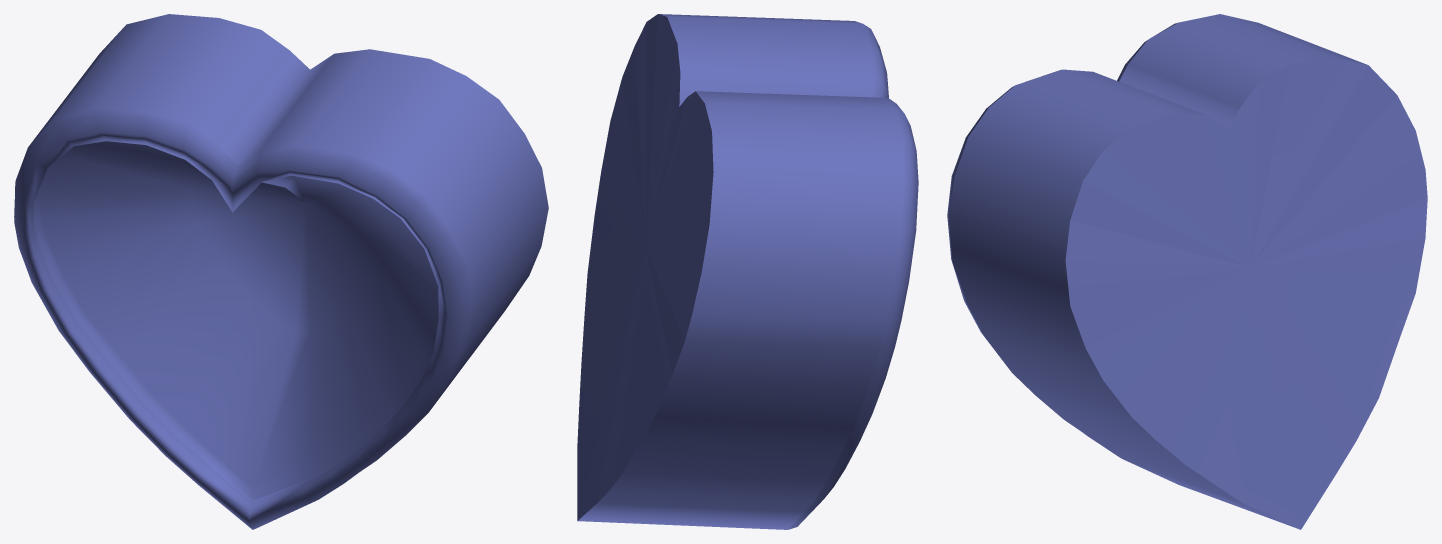
The model's file is TL3_8shapes_heart_Classic_Metal.001 3.glb.
3 views of the same model, side by side, from view 1: azimuth 30°, elevation 25°; view 2: azimuth 150°, elevation 25°; view 3: azimuth 270°, elevation 25° (orthographic). The views are drawn at different scales.
Parts seen in each view (by area): view 1: TL3_8shapes_heart_Classic_Metal.001; view 2: TL3_8shapes_heart_Classic_Metal.001; view 3: TL3_8shapes_heart_Classic_Metal.001.
Boxes of the visible parts, x1,y1,x2,y2 form: TL3_8shapes_heart_Classic_Metal.001: [14, 14, 548, 529]; TL3_8shapes_heart_Classic_Metal.001: [577, 14, 918, 529]; TL3_8shapes_heart_Classic_Metal.001: [947, 14, 1427, 529].
Size of the model in its own units: 0.5546 by 0.5921 by 0.5993.
